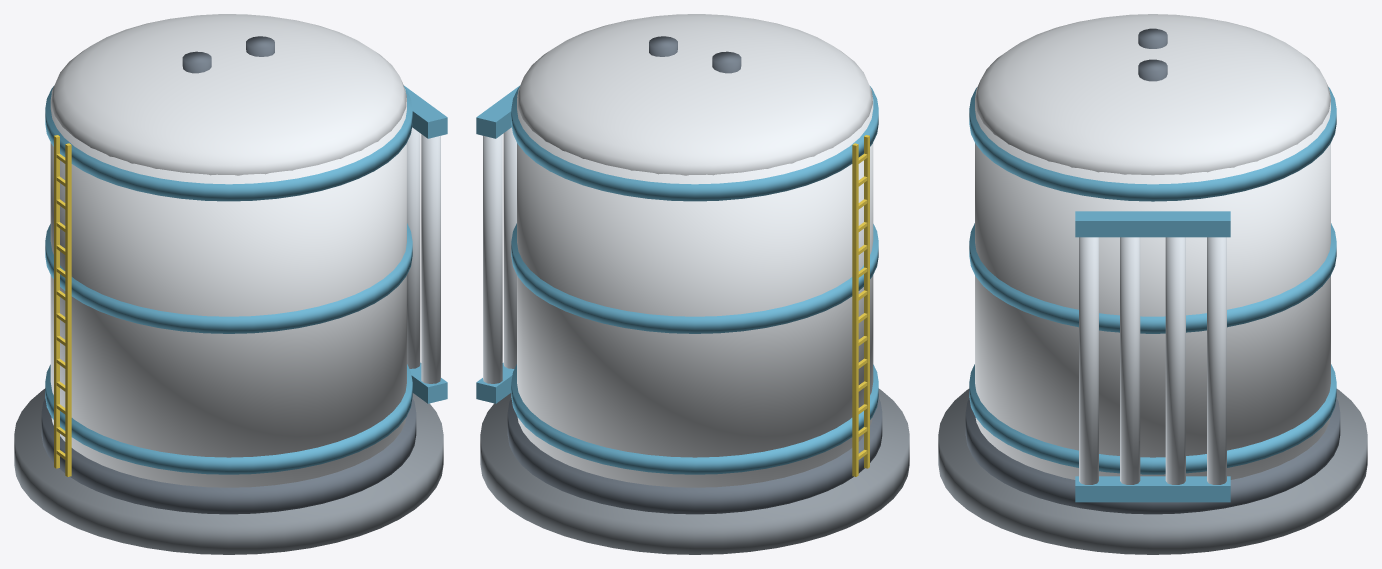
File: cryogenic_vessel.glb
3 renders of one model, left to right at view 1: azimuth 30°, elevation 25°; view 2: azimuth 150°, elevation 25°; view 3: azimuth 270°, elevation 25°, orthographic.
Parts seen in each view (by area): view 1: CryoShell, CryoDome, CryoPlinth, CryoSkirt, CryoBand_0.84, CryoBand_0.18, CryoBand_0.52, VapTube_0, VapTube_1, CryoLadder_-0.025, CryoLadder_0.025, VapHeaderTop (+3 smaller); view 2: CryoShell, CryoDome, CryoPlinth, CryoSkirt, CryoBand_0.84, CryoBand_0.18, CryoBand_0.52, VapTube_3, VapTube_2, CryoLadder_0.025, CryoLadder_-0.025, VapHeaderTop (+3 smaller); view 3: CryoShell, CryoDome, CryoPlinth, CryoSkirt, CryoBand_0.84, CryoBand_0.52, CryoBand_0.18, VapTube_1, VapTube_2, VapTube_0, VapTube_3, VapHeaderTop (+3 smaller).
Boxes of the visible parts, bbox=[...] form: CryoShell: bbox=[50, 87, 406, 487]; CryoDome: bbox=[51, 14, 406, 175]; CryoPlinth: bbox=[14, 388, 443, 554]; CryoSkirt: bbox=[41, 398, 416, 514]; CryoBand_0.84: bbox=[45, 86, 412, 201]; CryoBand_0.18: bbox=[45, 364, 412, 474]; CryoBand_0.52: bbox=[45, 223, 412, 333]; VapTube_0: bbox=[421, 134, 440, 383]; VapTube_1: bbox=[407, 127, 420, 368]; CryoLadder_-0.025: bbox=[65, 143, 71, 476]; CryoLadder_0.025: bbox=[54, 135, 59, 468]; VapHeaderTop: bbox=[404, 85, 447, 138]; CryoShell: bbox=[517, 87, 873, 487]; CryoDome: bbox=[517, 14, 872, 175]; CryoPlinth: bbox=[480, 388, 909, 554]; CryoSkirt: bbox=[507, 398, 882, 514]; CryoBand_0.84: bbox=[511, 86, 878, 201]; CryoBand_0.18: bbox=[511, 364, 878, 474]; CryoBand_0.52: bbox=[511, 223, 878, 333]; VapTube_3: bbox=[483, 134, 502, 383]; VapTube_2: bbox=[503, 127, 516, 368]; CryoLadder_0.025: bbox=[852, 143, 858, 476]; CryoLadder_-0.025: bbox=[864, 135, 869, 468]; VapHeaderTop: bbox=[476, 85, 519, 138]; CryoShell: bbox=[975, 89, 1330, 479]; CryoDome: bbox=[975, 14, 1330, 175]; CryoPlinth: bbox=[938, 389, 1367, 554]; CryoSkirt: bbox=[965, 398, 1340, 514]; CryoBand_0.84: bbox=[969, 87, 1336, 201]; CryoBand_0.52: bbox=[969, 223, 1336, 333]; CryoBand_0.18: bbox=[969, 364, 1336, 474]; VapTube_1: bbox=[1120, 237, 1140, 484]; VapTube_2: bbox=[1165, 237, 1185, 484]; VapTube_0: bbox=[1079, 237, 1098, 484]; VapTube_3: bbox=[1207, 237, 1226, 484]; VapHeaderTop: bbox=[1075, 211, 1230, 237].
Bounding box in the file's own units: 0.94 × 1 × 0.94.
